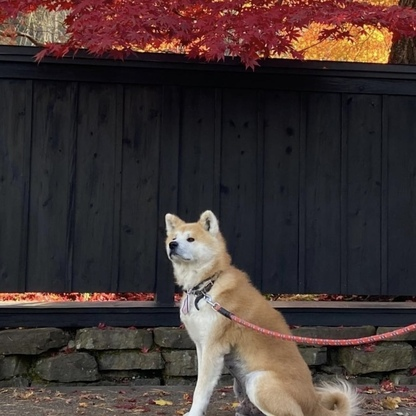akita: (149, 203, 369, 416)
